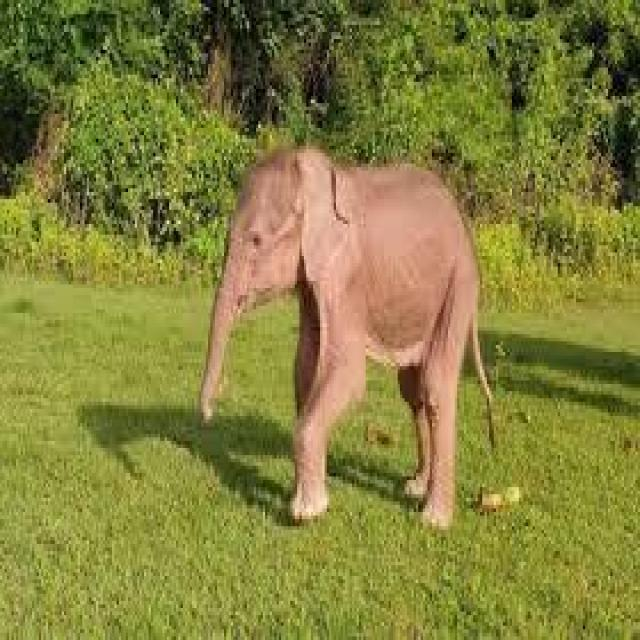Elephant: (201, 139, 499, 528)
